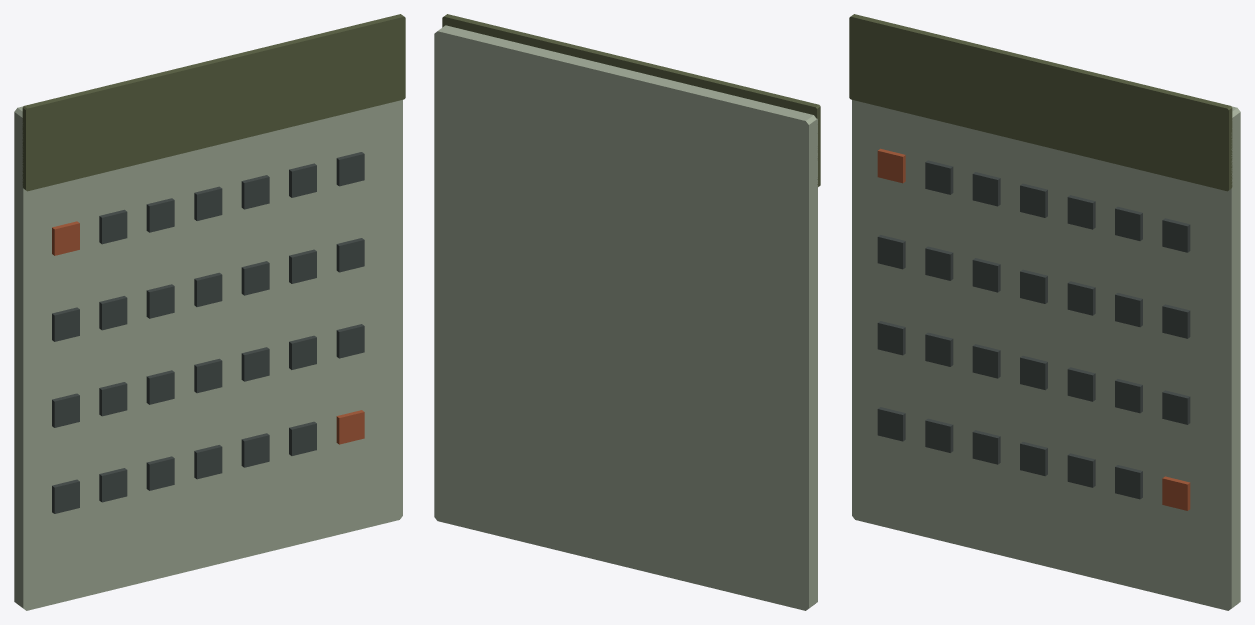
File: Calendar.gltf
3 renders of one model, left to right at view 1: azimuth 30°, elevation 25°; view 2: azimuth 150°, elevation 25°; view 3: azimuth 330°, elevation 25°, orthographic.
Visible parts, largest first — view 1: Calendar; view 2: Calendar; view 3: Calendar.
Part boxes in pixels (x1,y1,x2,y2): Calendar: [14, 14, 405, 610]; Calendar: [434, 14, 820, 610]; Calendar: [849, 14, 1240, 610].
Size of the model in its own units: 0.12 by 0.1525 by 0.0065.
